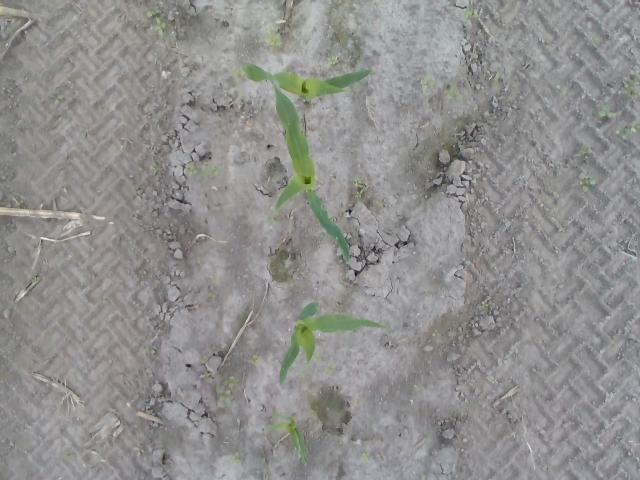Maize: (264, 74, 350, 260), (278, 301, 388, 382), (241, 62, 373, 105), (268, 405, 308, 460)
Weeds: (215, 376, 238, 406), (182, 162, 225, 178), (620, 64, 638, 100), (146, 9, 166, 39), (616, 118, 640, 139), (261, 24, 283, 46), (578, 175, 599, 194), (596, 104, 618, 120), (352, 177, 366, 200), (576, 146, 592, 160), (230, 451, 243, 467), (446, 88, 462, 101), (323, 364, 338, 376), (248, 355, 262, 366), (463, 7, 475, 17), (327, 55, 337, 66), (432, 329, 442, 337)
